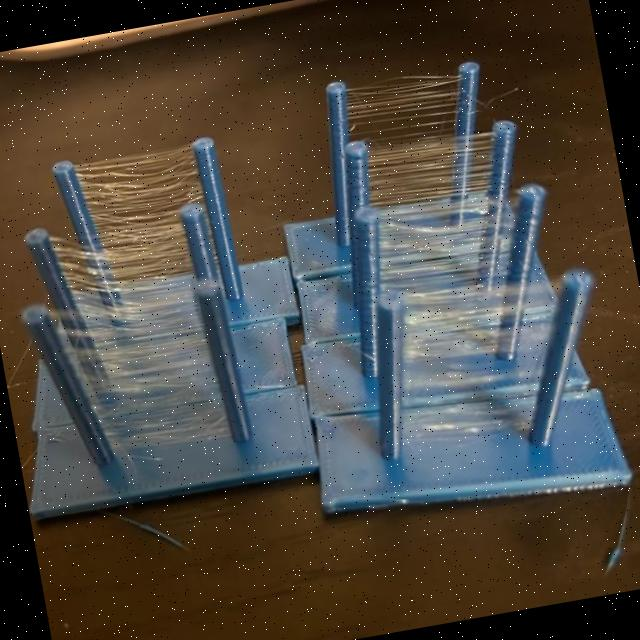stringing: (59, 232, 191, 302), (70, 312, 202, 380), (384, 194, 501, 262), (89, 153, 188, 224), (354, 76, 451, 136), (374, 138, 464, 202)
